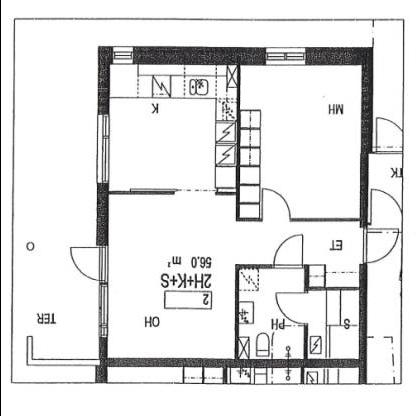door: (67, 243, 109, 283), (361, 226, 398, 268), (272, 289, 312, 327), (270, 232, 307, 272), (264, 186, 290, 222)
window: (93, 106, 111, 185), (262, 43, 310, 71), (94, 283, 112, 341), (111, 42, 137, 68)
